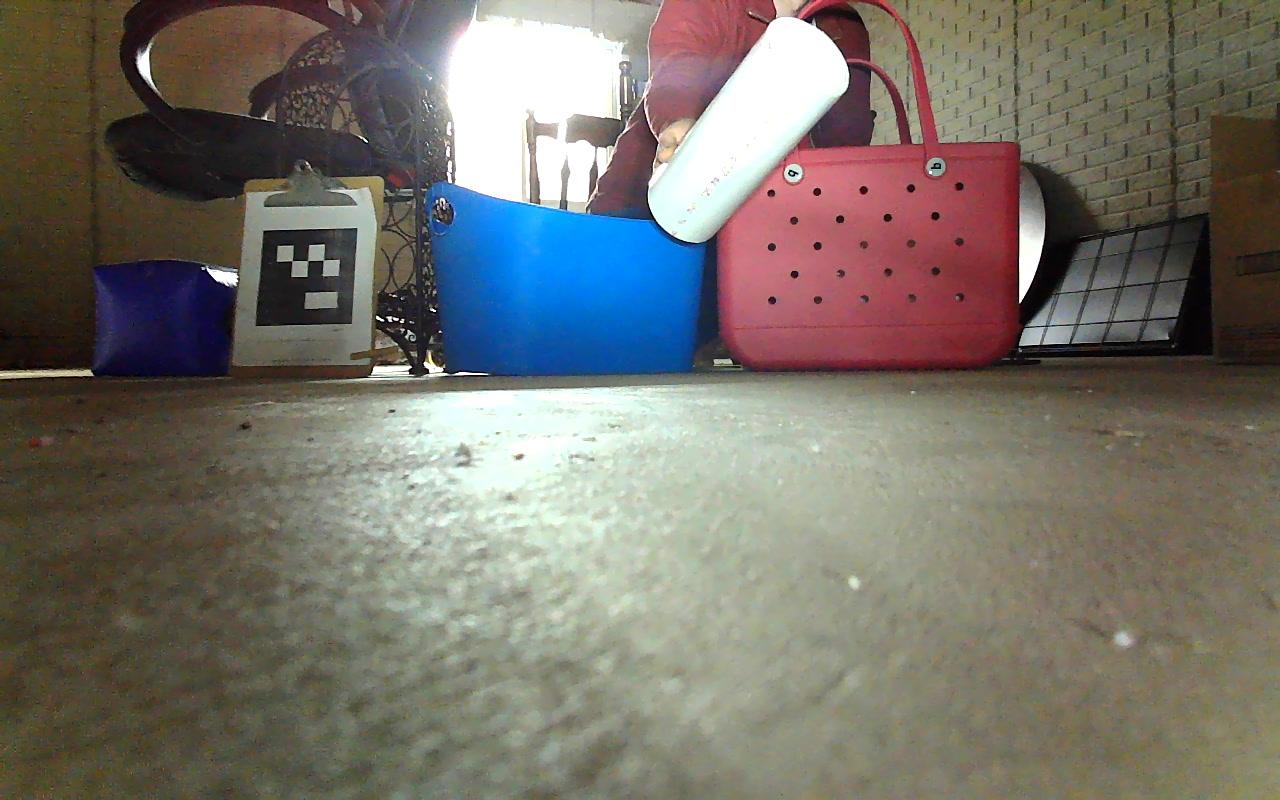coral: (647, 20, 849, 245)
